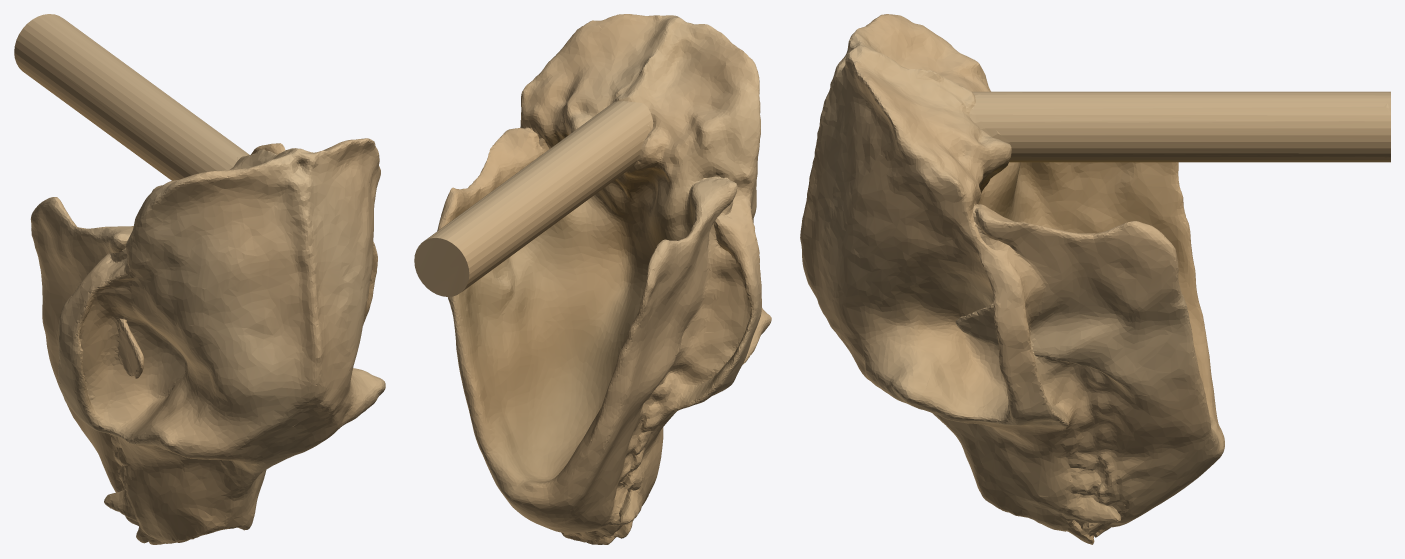
File: aegyptopithecus.glb
3 renders of one model, left to right at view 1: azimuth 30°, elevation 25°; view 2: azimuth 150°, elevation 25°; view 3: azimuth 270°, elevation 25°, orthographic. The views are drawn at different scales.
Bounding box in the file's own units: 15.88 × 23.23 × 25.07.
